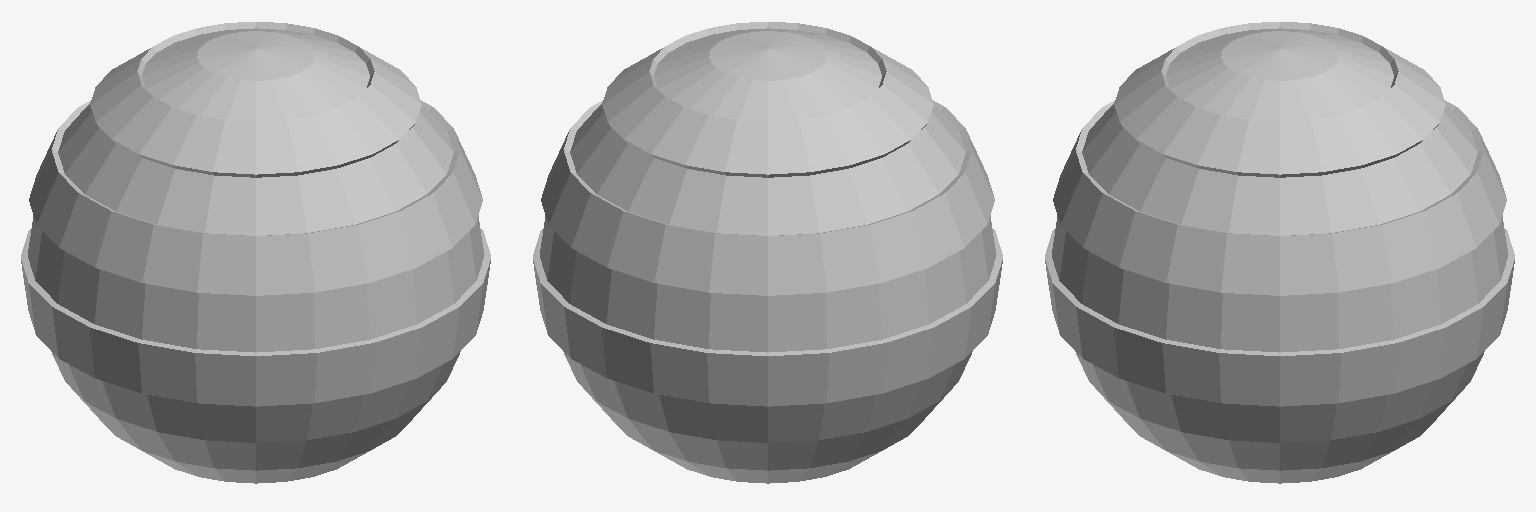
File: magicWand_qiu.obj
The picture shows the model from 3 angles: view 1: azimuth 30°, elevation 25°; view 2: azimuth 150°, elevation 25°; view 3: azimuth 270°, elevation 25°; orthographic projection.
Visible parts, largest first — view 1: magicWand:qiu; view 2: magicWand:qiu; view 3: magicWand:qiu.
Boxes of the visible parts, <box> form: magicWand:qiu: <box>21,22,490,483</box>; magicWand:qiu: <box>533,22,1002,483</box>; magicWand:qiu: <box>1045,22,1514,483</box>.
Bounding box in the file's own units: 1.07 × 1.04 × 1.07.